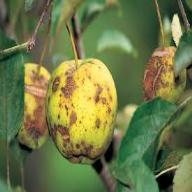apple: (47, 58, 116, 160), (12, 63, 52, 152), (142, 43, 188, 108)
